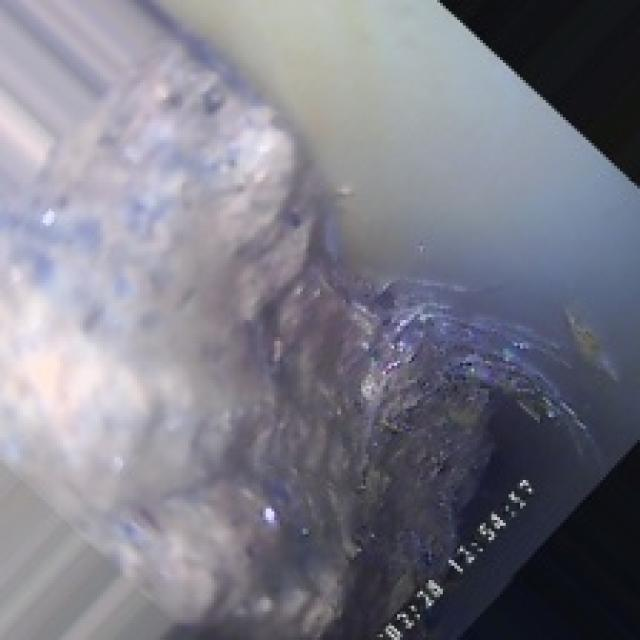sluge accumulation: (46, 72, 531, 537)
